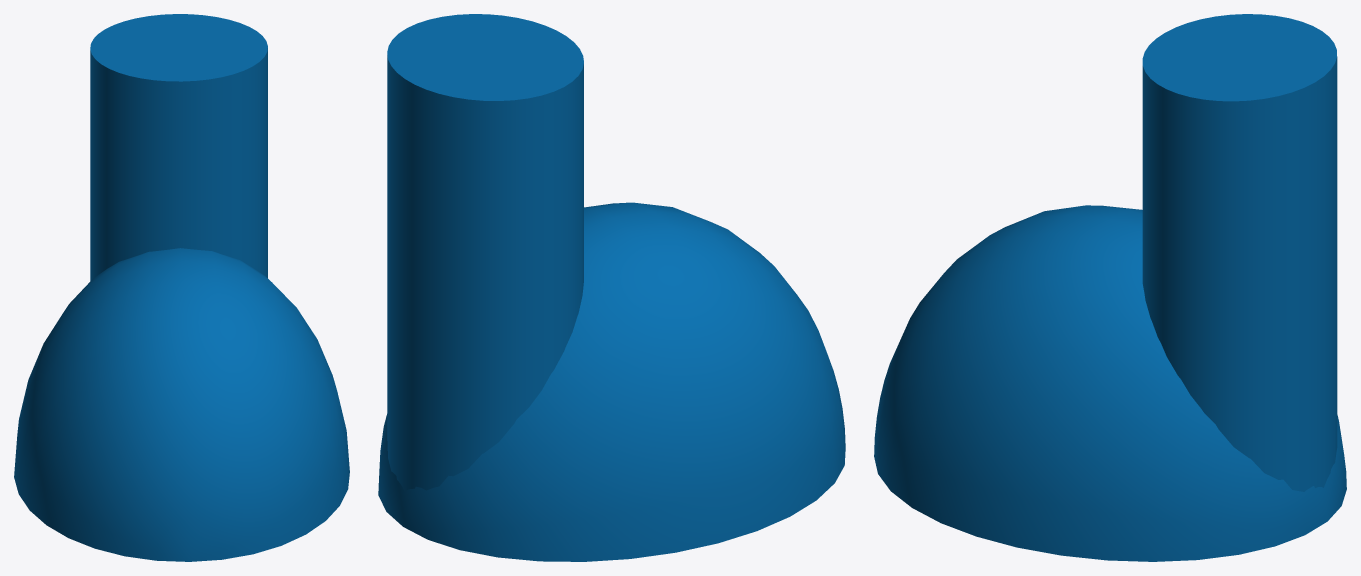
The model's file is pataD_B.obj.
3 renders of one model, left to right at view 1: azimuth 30°, elevation 25°; view 2: azimuth 150°, elevation 25°; view 3: azimuth 270°, elevation 25°, orthographic. The views are drawn at different scales.
Visible parts, largest first — view 1: pataD; view 2: pataD; view 3: pataD.
Part boxes in pixels (bbox=[...]): pataD: bbox=[14, 14, 349, 561]; pataD: bbox=[378, 14, 845, 561]; pataD: bbox=[874, 14, 1346, 561].
Bounding box in the file's own units: 1.91 × 2.23 × 2.14.
